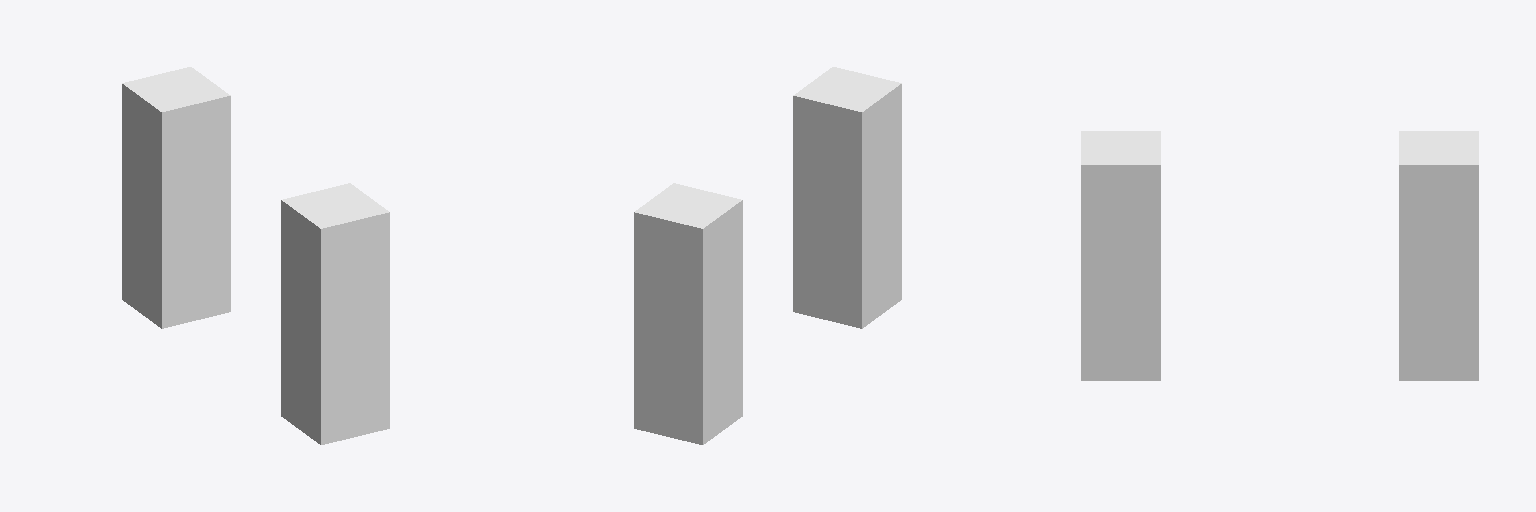
Rendered from arms.vox.obj.
The picture shows the model from 3 angles: view 1: azimuth 30°, elevation 25°; view 2: azimuth 150°, elevation 25°; view 3: azimuth 270°, elevation 25°; orthographic projection.
Visible parts, largest first — view 1: object 1; view 2: object 1; view 3: object 1.
Boxes of the visible parts, x1,y1,x2,y2 form: object 1: [122, 67, 389, 444]; object 1: [634, 67, 901, 444]; object 1: [1081, 131, 1478, 380].
Bounding box in the file's own units: 0.1 × 0.3 × 0.5.